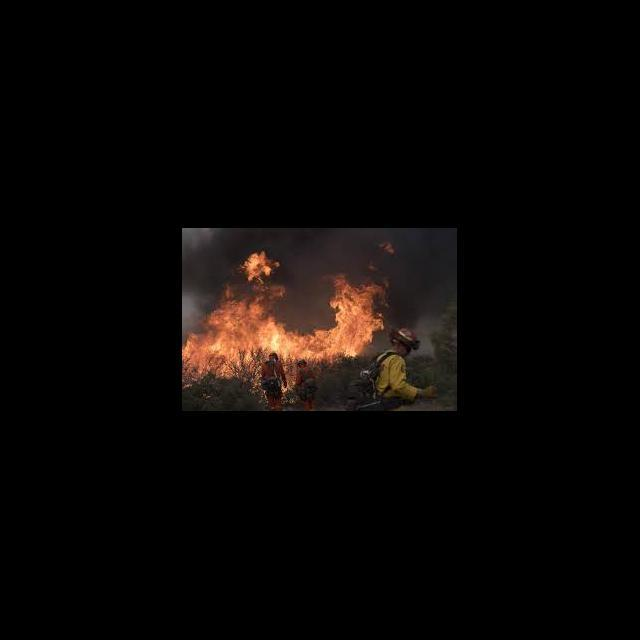Fire: (184, 251, 394, 391)
Smoke: (184, 229, 457, 354)
